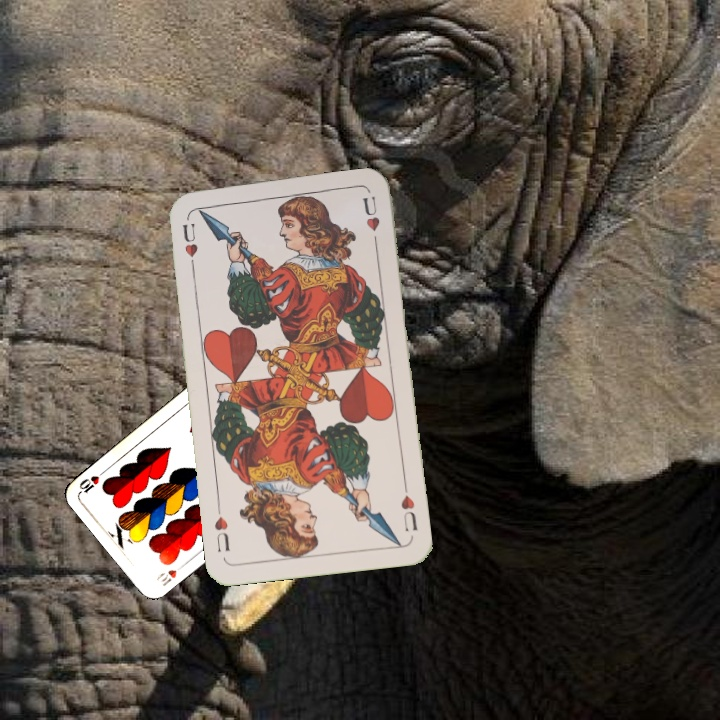H10: (152, 559, 188, 589)
HU: (396, 480, 420, 533), (179, 219, 201, 272)
